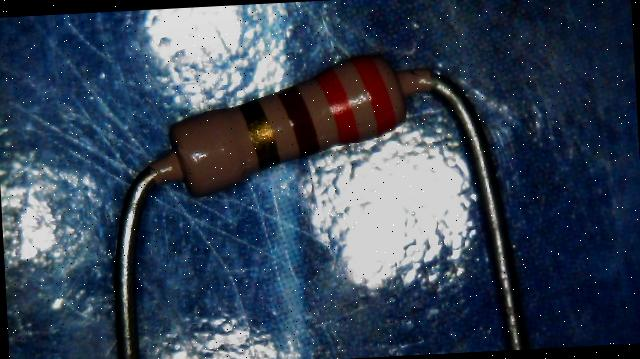brown: (276, 84, 319, 156)
gold: (240, 99, 278, 168)
orange: (351, 54, 395, 133), (316, 68, 358, 144)
resistor: (139, 27, 429, 221)
